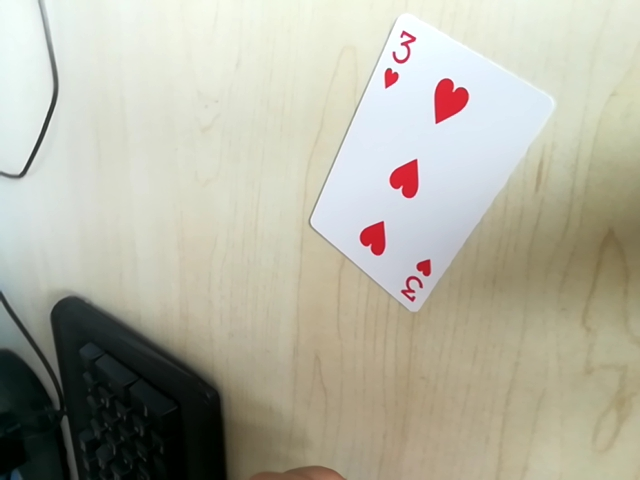hx 3: (376, 17, 416, 90), (397, 254, 435, 312)
